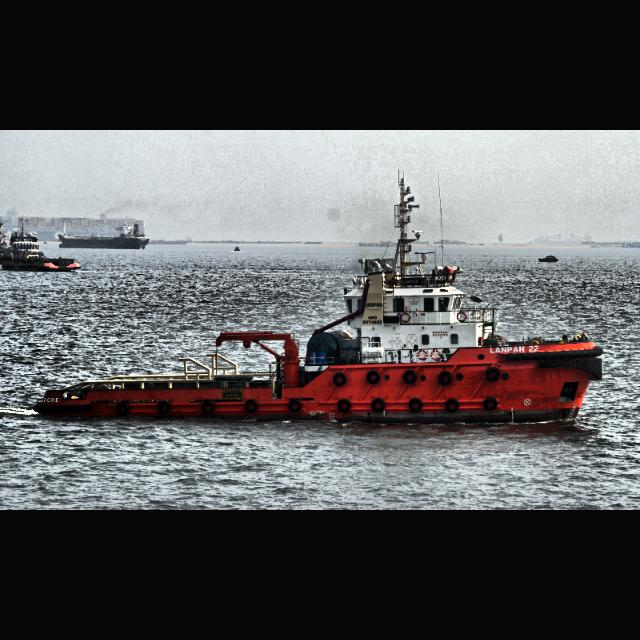anchor_handling_tug_supply: (31, 245, 604, 428), (0, 231, 80, 271)
container: (1, 212, 148, 246), (55, 222, 151, 250)
